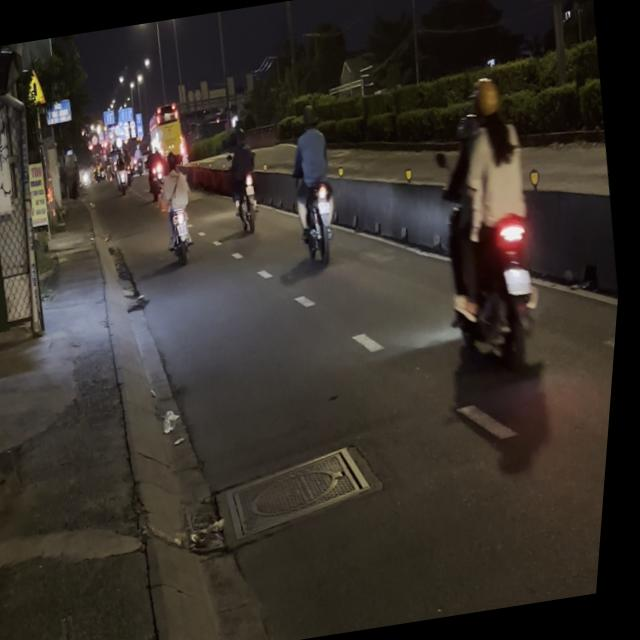helmet: (471, 74, 509, 125)
licenseplate: (411, 66, 575, 386)
nohelmet: (506, 266, 539, 298)
